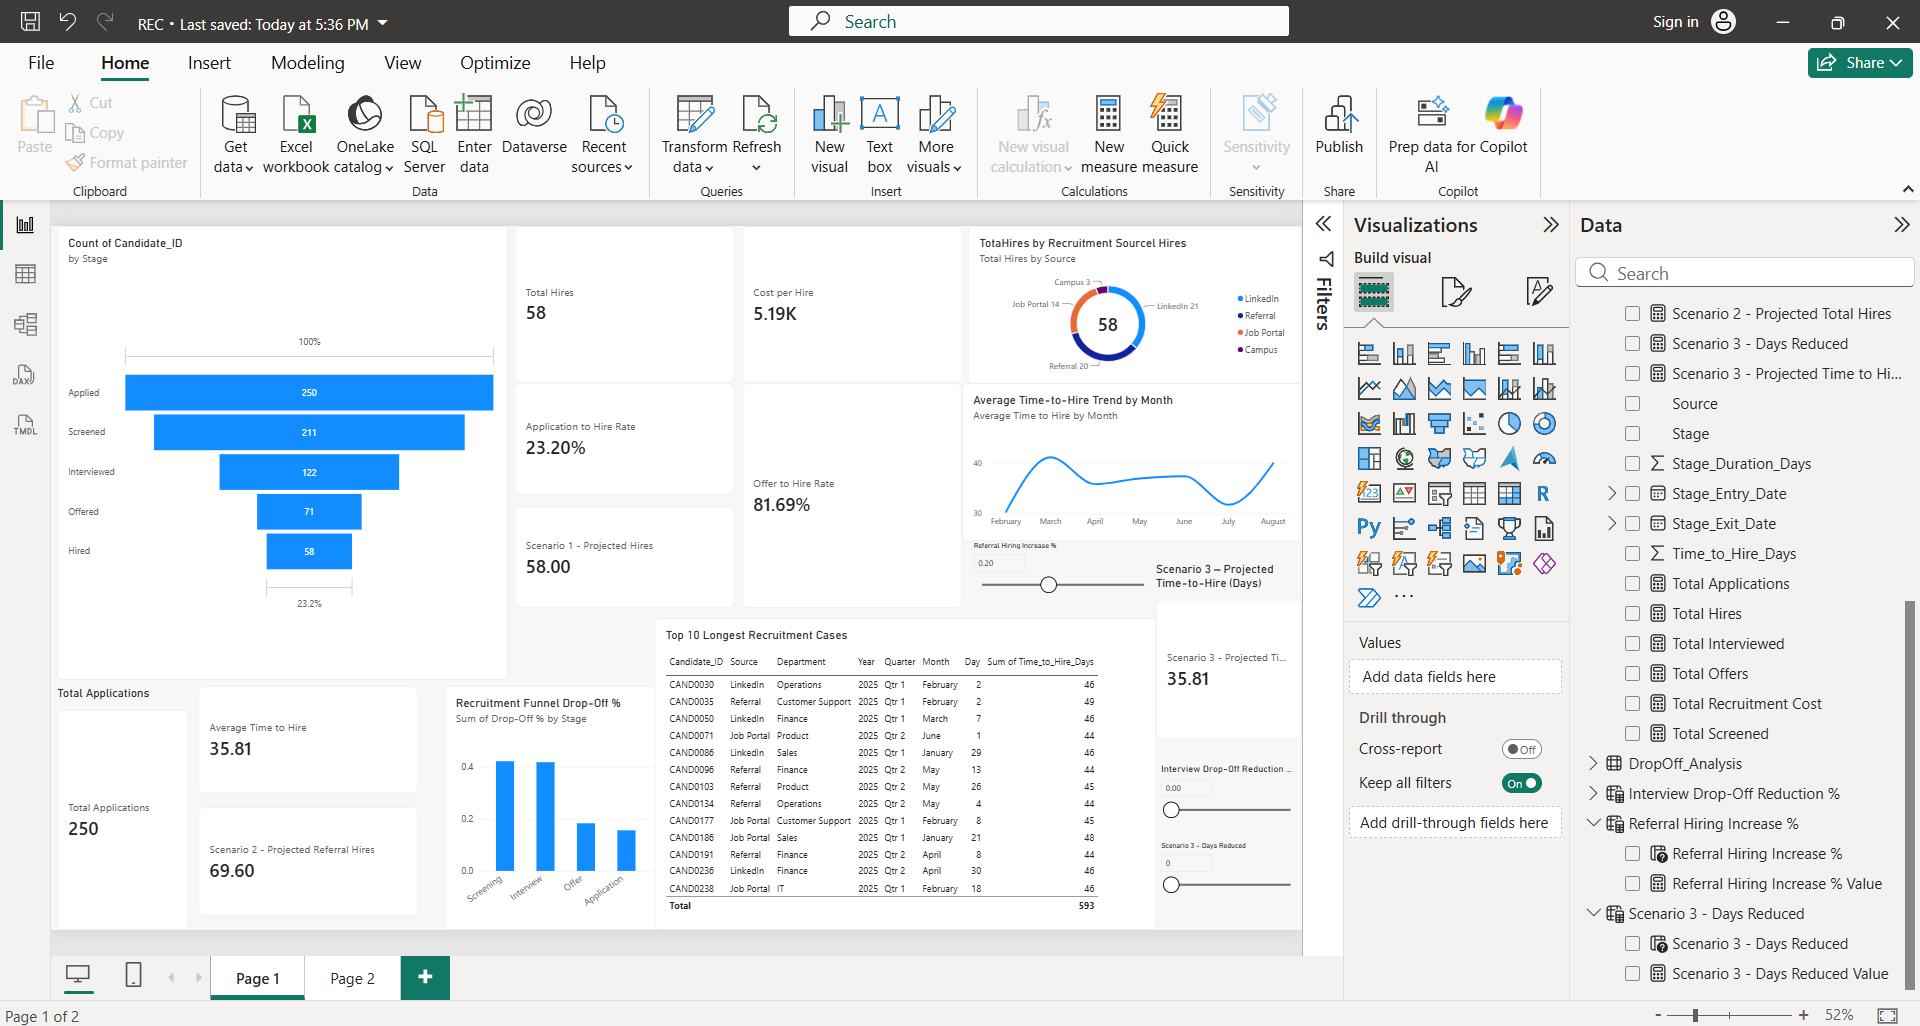

What the dashboard file says about the page in this screenshot:
{"tool":"powerbi","page":{"name":"Page 1","canvas":[1920,1080],"ordinal":0},"visuals":[{"type":"funnel","fields":{"Category":["Cleaned_Data.Stage"],"Y":["CountNonNull(Cleaned_Data.Candidate_ID)"]},"box":[10.3,0,691.6,695.7],"z":0},{"type":"cardVisual","title":"Total Applications","fields":{"Data":["Cleaned_Data.Total Applications"]},"box":[10.3,706,201.7,374.6],"z":1000},{"type":"cardVisual","fields":{"Data":["Cleaned_Data.Total Hires"]},"box":[712.2,0,337.6,240.8],"z":2000},{"type":"cardVisual","fields":{"Data":["Cleaned_Data.Application to Hire Rate"]},"box":[712.3,241.6,337.4,170.8],"z":3000},{"type":"cardVisual","fields":{"Data":["Cleaned_Data.Average Time to Hire"]},"box":[227,706.1,337.4,164.5],"z":4000},{"type":"cardVisual","fields":{"Data":["Cleaned_Data.Cost per Hire"]},"box":[1060,0,338,241],"z":5000},{"type":"cardVisual","fields":{"Data":["Cleaned_Data.Offer to Hire Rate"]},"box":[1060.7,241.1,337.5,344.6],"z":6000},{"type":"clusteredColumnChart","title":"Recruitment Funnel Drop-Off %","fields":{"Category":["DropOff_Analysis.Stage"],"Y":["Sum(DropOff_Analysis.Drop-Off %)"]},"box":[605.1,706,338,374],"z":7000},{"type":"donutChart","title":"TotaHires by Recruitment Sourcel Hires","fields":{"Category":["Cleaned_Data.Source"],"Y":["Cleaned_Data.Total Hires"]},"box":[1408.2,0,512.2,241.7],"z":8000},{"type":"lineChart","title":"Average Time-to-Hire Trend by Month","fields":{"Category":["Cleaned_Data.Hire Month.Variation.Date Hierarchy.Month"],"Y":["Cleaned_Data.Average Time to Hire"]},"box":[1398.6,241.7,521.8,241.7],"z":9000},{"type":"tableEx","title":"Top 10 Longest Recruitment Cases","fields":{"Values":["Cleaned_Data.Candidate_ID","Cleaned_Data.Source","Cleaned_Data.Department","Cleaned_Data.Applied_Date.Variation.Date Hierarchy.Year","Cleaned_Data.Applied_Date.Variation.Date Hierarchy.Quarter","Cleaned_Data.Applied_Date.Variation.Date Hierarchy.Month","Cleaned_Data.Applied_Date.Variation.Date Hierarchy.Day","Sum(Cleaned_Data.Time_to_Hire_Days)"]},"box":[926.2,603.1,769.8,477.5],"z":10000},{"type":"slicer","fields":{"Values":["Interview Drop-Off Reduction %.Interview Drop-Off Reduction %"]},"box":[1695.5,824.8,225,241.6],"z":11000},{"type":"cardVisual","title":"Scenario 3 – Projected Time-to-Hire (Days)","fields":{"Data":["Cleaned_Data.Scenario 3 - Projected Time to Hire"]},"box":[1695.9,516.1,224.5,272.4],"z":13000},{"type":"slicer","fields":{"Values":["Referral Hiring Increase %.Referral Hiring Increase %"]},"box":[1408.2,483.5,287.8,134.3],"z":13001},{"type":"cardVisual","fields":{"Data":["Cleaned_Data.Scenario 2 - Projected Referral Hires"]},"box":[226.4,892.1,337.7,166.9],"z":13002},{"type":"cardVisual","fields":{"Data":["Cleaned_Data.Scenario 1 - Projected Hires"]},"box":[712.3,431.2,337.4,154.1],"z":13003},{"type":"slicer","fields":{"Values":["Scenario 3 - Days Reduced.Scenario 3 - Days Reduced"]},"box":[1695.9,943.9,225,135.4],"z":13006}]}

Visuals, with their boxes on the page's 1920x1080 design canvas (x1, y1, x2, y2). These are canvas units, not pixel positions in the 1920x1026 screenshot, which may show the page scaled, cropped or inside an application window:
funnel - Cleaned_Data.Stage x CountNonNull(Cleaned_Data.Candidate_ID): [10,0,702,696]
"Total Applications" cardVisual: [10,706,212,1081]
cardVisual - Cleaned_Data.Total Hires: [712,0,1050,241]
cardVisual - Cleaned_Data.Application to Hire Rate: [712,242,1050,412]
cardVisual - Cleaned_Data.Average Time to Hire: [227,706,564,871]
cardVisual - Cleaned_Data.Cost per Hire: [1060,0,1398,241]
cardVisual - Cleaned_Data.Offer to Hire Rate: [1061,241,1398,586]
"Recruitment Funnel Drop-Off %" clusteredColumnChart: [605,706,943,1080]
"TotaHires by Recruitment Sourcel Hires" donutChart: [1408,0,1920,242]
"Average Time-to-Hire Trend by Month" lineChart: [1399,242,1920,483]
"Top 10 Longest Recruitment Cases" tableEx: [926,603,1696,1081]
slicer - Interview Drop-Off Reduction %.Interview Drop-Off Reduction %: [1696,825,1920,1066]
"Scenario 3 – Projected Time-to-Hire (Days)" cardVisual: [1696,516,1920,788]
slicer - Referral Hiring Increase %.Referral Hiring Increase %: [1408,484,1696,618]
cardVisual - Cleaned_Data.Scenario 2 - Projected Referral Hires: [226,892,564,1059]
cardVisual - Cleaned_Data.Scenario 1 - Projected Hires: [712,431,1050,585]
slicer - Scenario 3 - Days Reduced.Scenario 3 - Days Reduced: [1696,944,1921,1079]
